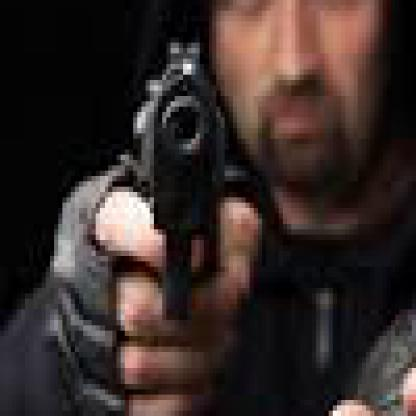gun: (120, 26, 250, 330)
